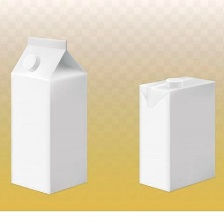carton: (4, 34, 91, 197), (135, 69, 220, 194)
